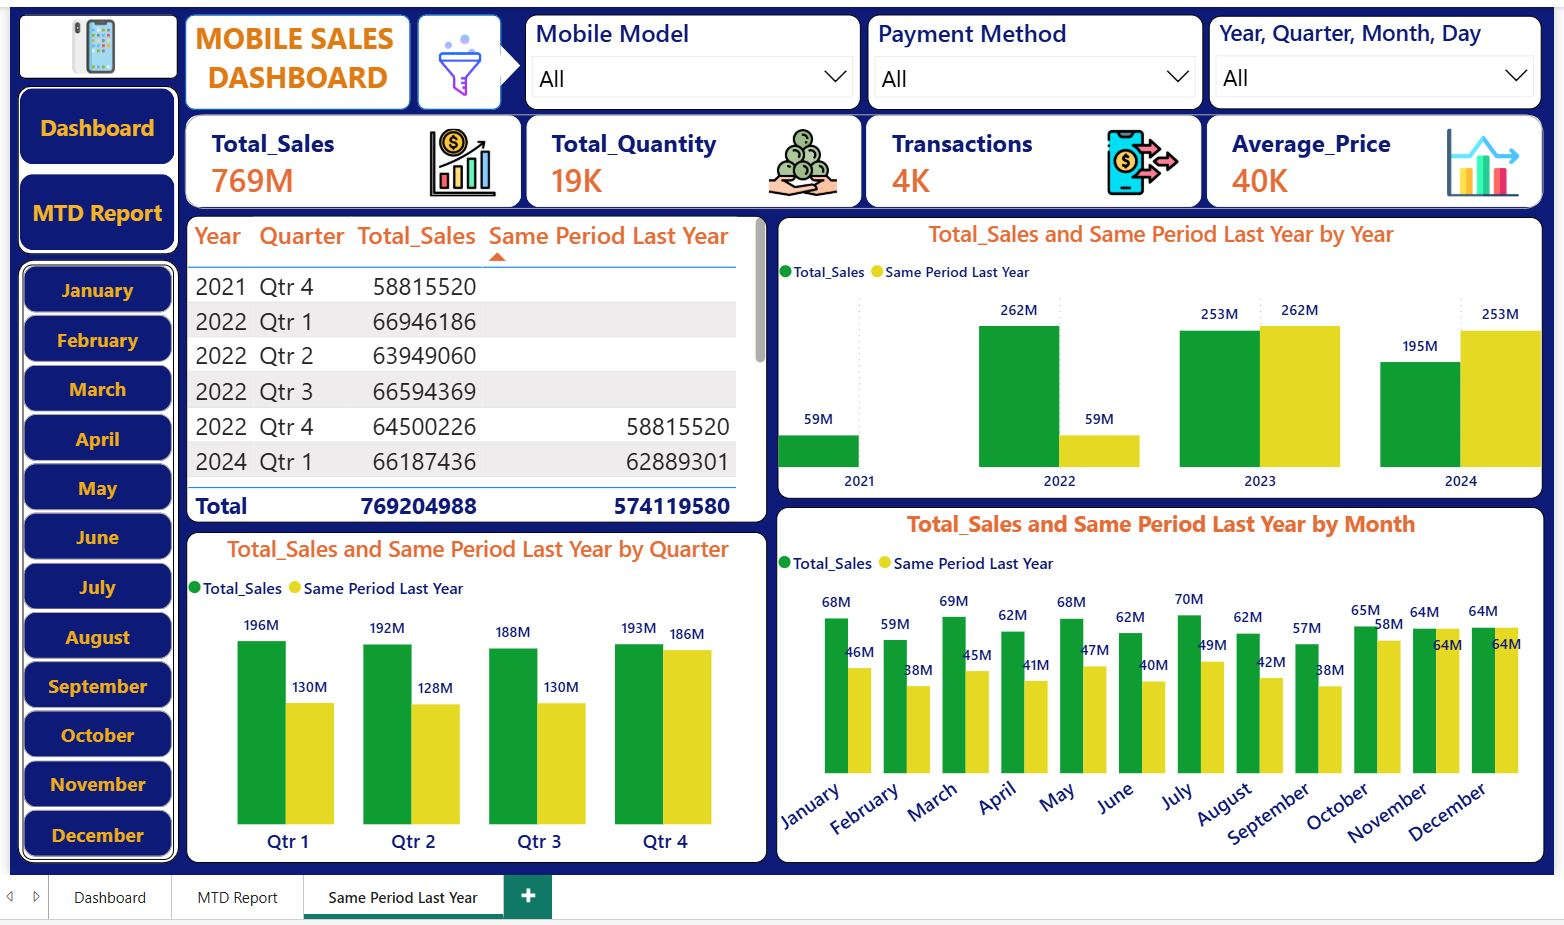

This screenshot's page, from the dashboard's own definition file:
{"tool":"powerbi","page":{"name":"Same Period Last Year","canvas":[1280,720],"ordinal":2},"visuals":[{"type":"shape","box":[7.2,5.8,132,53.4],"z":0},{"type":"image","box":[14.4,10.1,109.6,44.7],"z":1000},{"type":"shape","box":[5.8,64.9,134,139.9],"z":2000},{"type":"shape","box":[5.8,209.2,134,500.6],"z":3000},{"type":"advancedSlicerVisual","fields":{"Values":["Custom_Calender.Date.Variation.Date Hierarchy.Month"]},"box":[10.1,213.5,125.5,493.4],"z":4000},{"type":"cardVisual","fields":{"Data":["Sales_Data.Total_Sales","Sales_Data.Total_Quantity","Sales_Data.Transactions","Sales_Data.Average_Price"]},"box":[141.4,85.1,1136,86.6],"z":5000},{"type":"shape","box":[145,6,187,79.1],"z":6000},{"type":"textbox","box":[153.4,9.6,170.2,69.5],"z":7000},{"type":"shape","box":[338,6,69.5,79.1],"z":8000},{"type":"shape","box":[389.5,31.2,33.6,34.8],"z":9000},{"type":"image","box":[341.6,15.6,62.3,65.9],"z":10000},{"type":"slicer","fields":{"Values":["Custom_Calender.Date.Variation.Date Hierarchy.Year","Custom_Calender.Date.Variation.Date Hierarchy.Quarter","Custom_Calender.Date.Variation.Date Hierarchy.Month","Custom_Calender.Date.Variation.Date Hierarchy.Day"]},"box":[993.6,7.2,275.7,77.9],"z":11000},{"type":"slicer","fields":{"Values":["Sales_Data.Mobile Model"]},"box":[426.7,6,278.1,79.1],"z":12000},{"type":"slicer","fields":{"Values":["Sales_Data.Payment Method"]},"box":[710.7,6,278.1,79.1],"z":13000},{"type":"tableEx","fields":{"Values":["Custom_Calender.Date.Variation.Date Hierarchy.Year","Custom_Calender.Date.Variation.Date Hierarchy.Quarter","Sales_Data.Total_Sales","Sales_Data.Same Period Last Year"]},"box":[146.2,172.6,481.8,254.1],"z":14000},{"type":"clusteredColumnChart","fields":{"Category":["Custom_Calender.Date.Variation.Date Hierarchy.Year","Custom_Calender.Date.Variation.Date Hierarchy.Quarter"],"Y":["Sales_Data.Total_Sales","Sales_Data.Same Period Last Year"]},"box":[636.4,173.8,634,233.7],"z":15000},{"type":"clusteredColumnChart","fields":{"Y":["Sales_Data.Total_Sales","Sales_Data.Same Period Last Year"],"Category":["Custom_Calender.Date.Variation.Date Hierarchy.Month"]},"box":[635.2,414.7,636.4,294.8],"z":16000},{"type":"clusteredColumnChart","fields":{"Category":["Custom_Calender.Date.Variation.Date Hierarchy.Quarter"],"Y":["Sales_Data.Total_Sales","Sales_Data.Same Period Last Year"]},"box":[146.2,435.1,481.8,274.5],"z":17000},{"type":"pageNavigator","box":[8.4,67.1,128.2,135.4],"z":18000}]}

Visuals, with their boxes on the page's 1280x720 design canvas (x1, y1, x2, y2). These are canvas units, not pixel positions in the 1564x925 screenshot, which may show the page scaled, cropped or inside an application window:
shape: <box>7,6,139,59</box>
image: <box>14,10,124,55</box>
shape: <box>6,65,140,205</box>
shape: <box>6,209,140,710</box>
advancedSlicerVisual - Custom_Calender.Date.Variation.Date Hierarchy.Month: <box>10,214,136,707</box>
cardVisual - Sales_Data.Total_Sales x Sales_Data.Total_Quantity: <box>141,85,1277,172</box>
shape: <box>145,6,332,85</box>
textbox: <box>153,10,324,79</box>
shape: <box>338,6,408,85</box>
shape: <box>390,31,423,66</box>
image: <box>342,16,404,82</box>
slicer - Custom_Calender.Date.Variation.Date Hierarchy.Year x Custom_Calender.Date.Variation.Date Hierarchy.Quarter: <box>994,7,1269,85</box>
slicer - Sales_Data.Mobile Model: <box>427,6,705,85</box>
slicer - Sales_Data.Payment Method: <box>711,6,989,85</box>
tableEx - Custom_Calender.Date.Variation.Date Hierarchy.Year x Custom_Calender.Date.Variation.Date Hierarchy.Quarter: <box>146,173,628,427</box>
clusteredColumnChart - Custom_Calender.Date.Variation.Date Hierarchy.Year x Custom_Calender.Date.Variation.Date Hierarchy.Quarter: <box>636,174,1270,408</box>
clusteredColumnChart - Sales_Data.Total_Sales x Sales_Data.Same Period Last Year: <box>635,415,1272,710</box>
clusteredColumnChart - Custom_Calender.Date.Variation.Date Hierarchy.Quarter x Sales_Data.Total_Sales: <box>146,435,628,710</box>
pageNavigator: <box>8,67,137,202</box>
